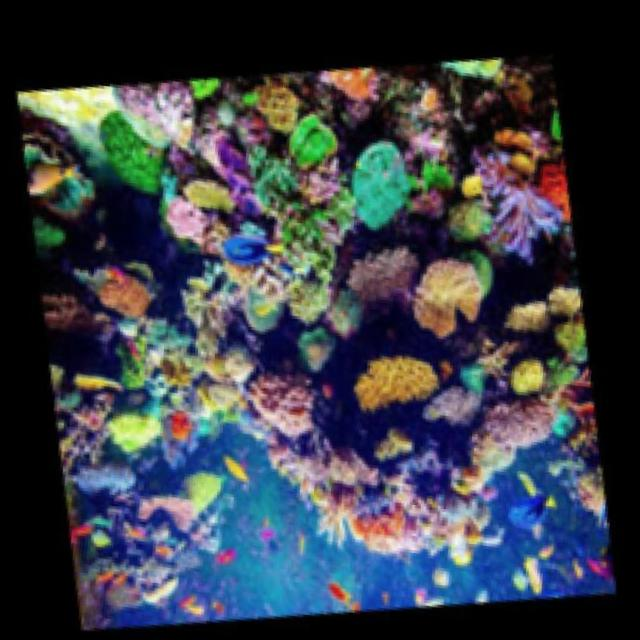Healthy Coral: (335, 207, 502, 353), (220, 340, 374, 467), (251, 151, 361, 320), (268, 466, 443, 572), (183, 104, 321, 233), (76, 110, 210, 220), (106, 67, 239, 163), (456, 359, 557, 485), (66, 239, 194, 335), (322, 111, 414, 234), (339, 335, 448, 420), (125, 482, 224, 555), (98, 392, 161, 467)
